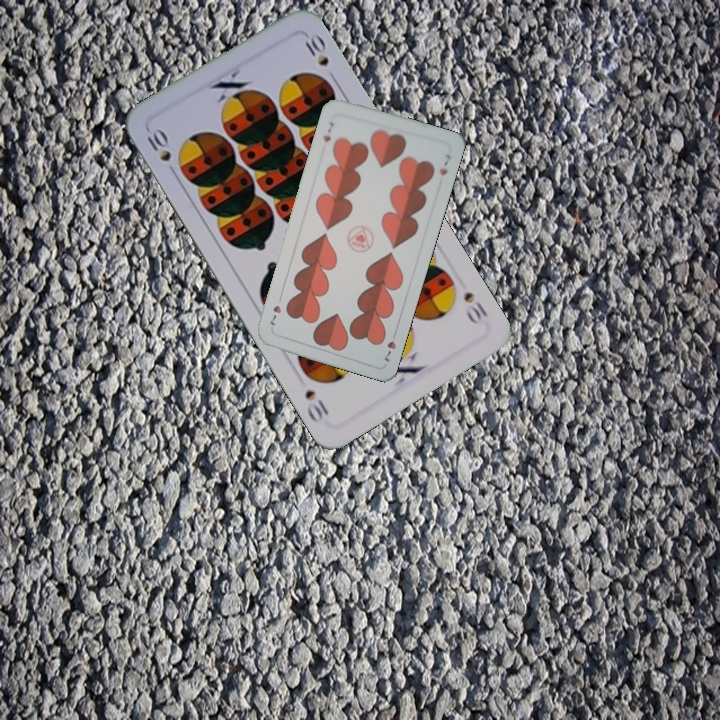H7: (380, 326, 400, 365), (318, 118, 336, 145)
S10: (142, 124, 180, 178), (459, 287, 491, 328)
